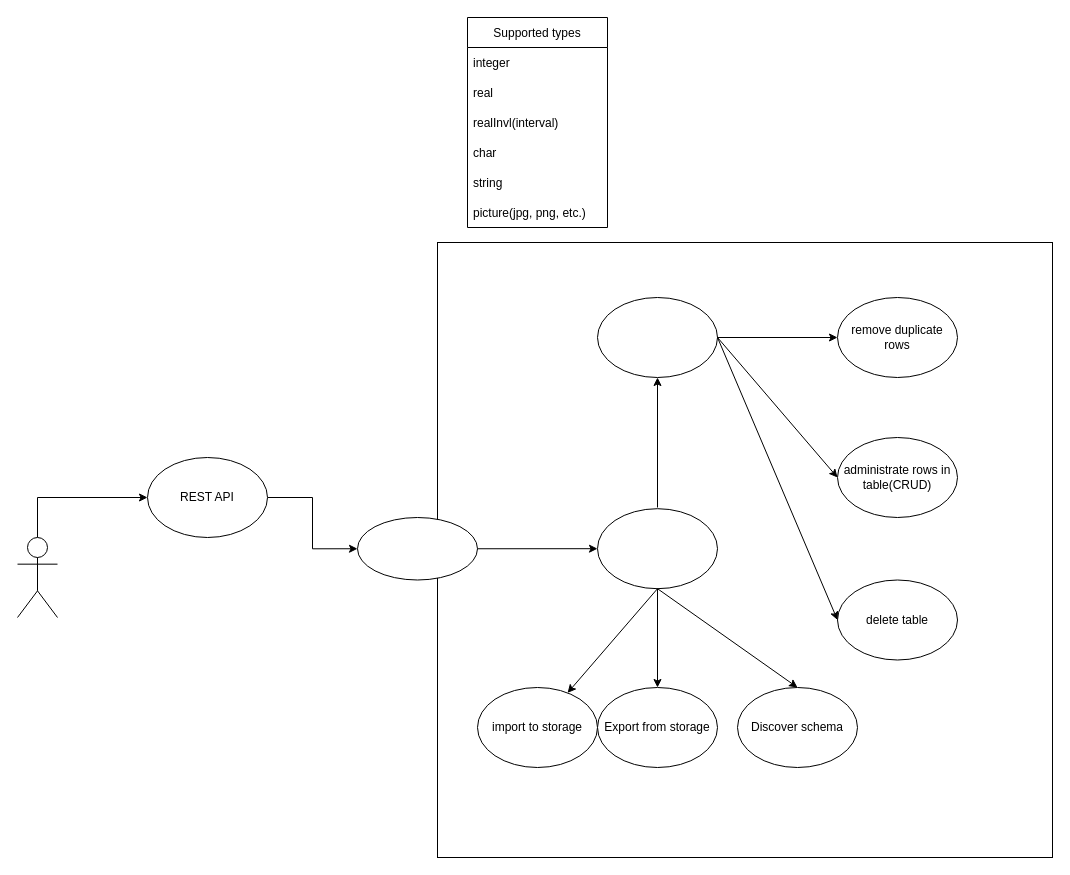
Some shapes in this 1070 by 875 pixel diagram are drawn without their labels. Here are the shapes that lost their labels. From the top down, the centre of each, then its label:
(657,337): create table
(417,548): Application interface
(657,548): create db
(37,577): Actor
